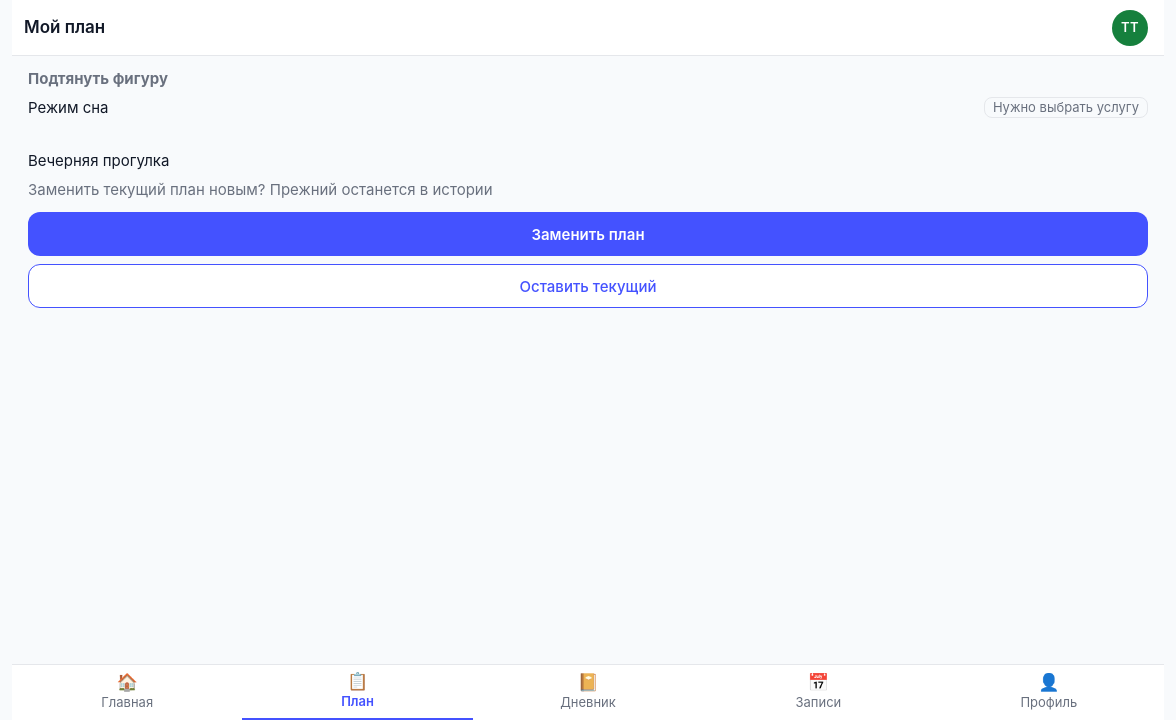
Test: «Мой план»: предложение рядом с действующим планом › отказ сервера показан именем с пометкой «тест», предложение остаётся
Click the button "Заменить план".
click(588, 234)  # box left=28, top=212, right=1148, bottom=256
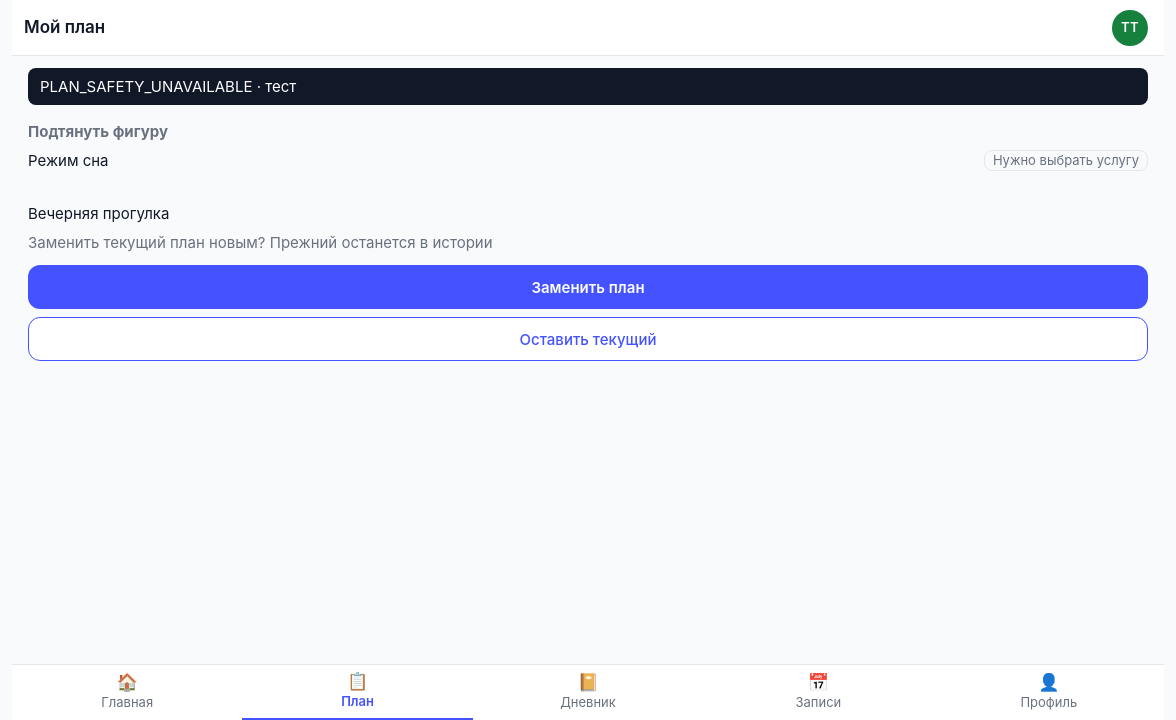
Expected: the element with test id "plan-proposal-card" is shown, left=28, top=195, right=1148, bottom=361
Expected: the text "PLAN_SAFETY_UNAVAILABLE · тест" is shown, left=40, top=76, right=296, bottom=97
